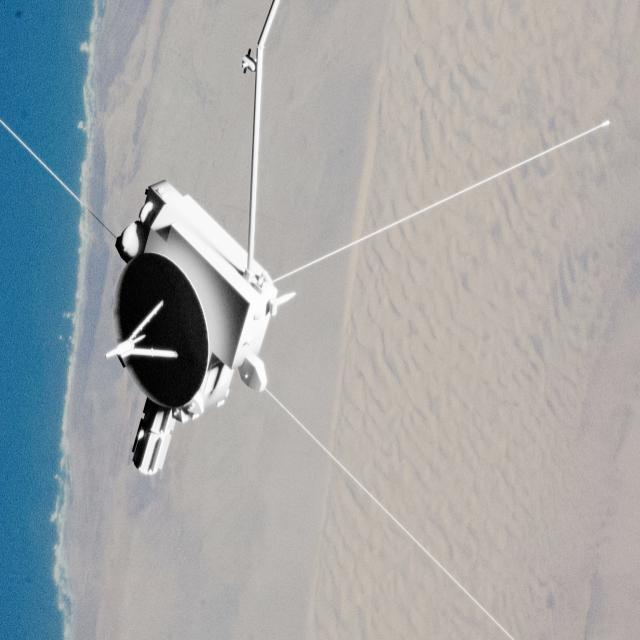satellite: (1, 79, 398, 498)
